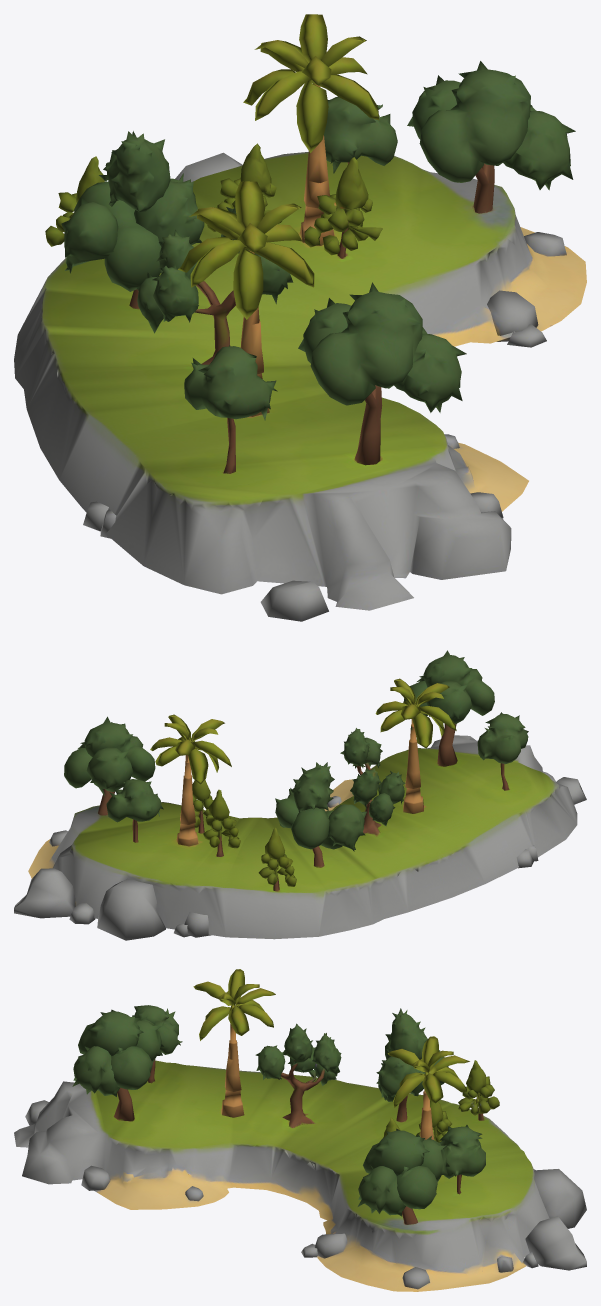
File: isle_09_p1.glb
3 renders of one model, top to bottom at view 1: azimuth 30°, elevation 25°; view 2: azimuth 150°, elevation 25°; view 3: azimuth 270°, elevation 25°, orthographic. The views are drawn at different scales.
Parts seen in each view (by area): view 1: tripo_node_984cc937-40e7-4d26-9fe8-0d1050cf6922; view 2: tripo_node_984cc937-40e7-4d26-9fe8-0d1050cf6922; view 3: tripo_node_984cc937-40e7-4d26-9fe8-0d1050cf6922.
Part boxes in pixels (x1,y1,x2,y2): tripo_node_984cc937-40e7-4d26-9fe8-0d1050cf6922: [14, 14, 586, 621]; tripo_node_984cc937-40e7-4d26-9fe8-0d1050cf6922: [14, 650, 586, 940]; tripo_node_984cc937-40e7-4d26-9fe8-0d1050cf6922: [14, 969, 586, 1291].
Size of the model in its own units: 0.8145 by 0.3301 by 0.998.
1 material, 1 textured.
